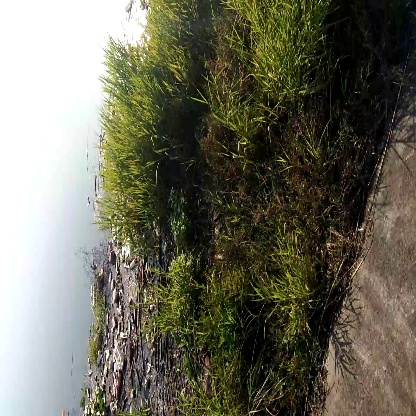grass: (99, 63, 163, 227)
